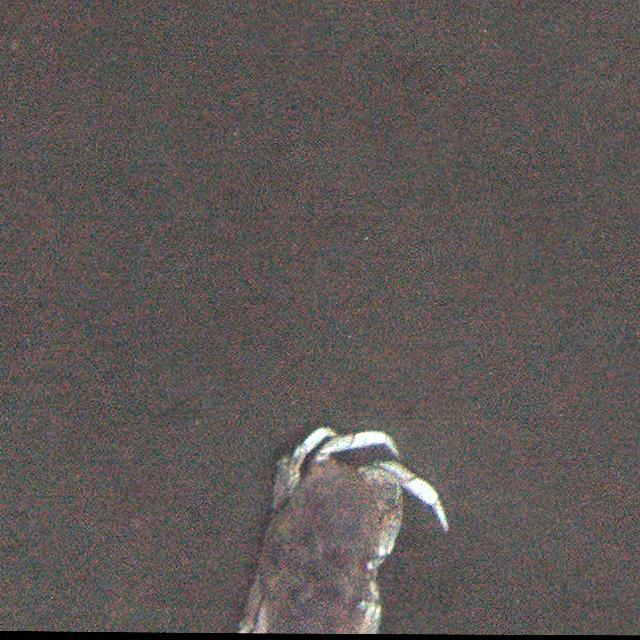crab: (228, 422, 453, 634)
